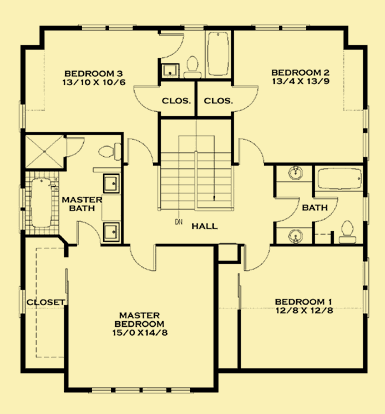door: (130, 82, 162, 113), (128, 243, 158, 273), (74, 218, 102, 249), (238, 137, 267, 166), (311, 195, 340, 224), (124, 136, 154, 164), (242, 244, 270, 273), (274, 194, 301, 224), (157, 31, 186, 58), (233, 85, 261, 110), (62, 136, 87, 157)
large_sink: (96, 140, 123, 162), (336, 220, 358, 243), (182, 55, 204, 78)
sink: (100, 174, 123, 193), (103, 221, 120, 243)
small_sink: (274, 165, 314, 184), (274, 226, 313, 244)
stairs: (158, 120, 235, 213)
tub: (24, 172, 59, 235), (314, 163, 363, 193), (205, 29, 231, 79)
window: (86, 387, 191, 396), (77, 22, 137, 32), (252, 24, 308, 32), (361, 107, 369, 160), (364, 259, 371, 317), (18, 289, 28, 318), (19, 102, 28, 131)
